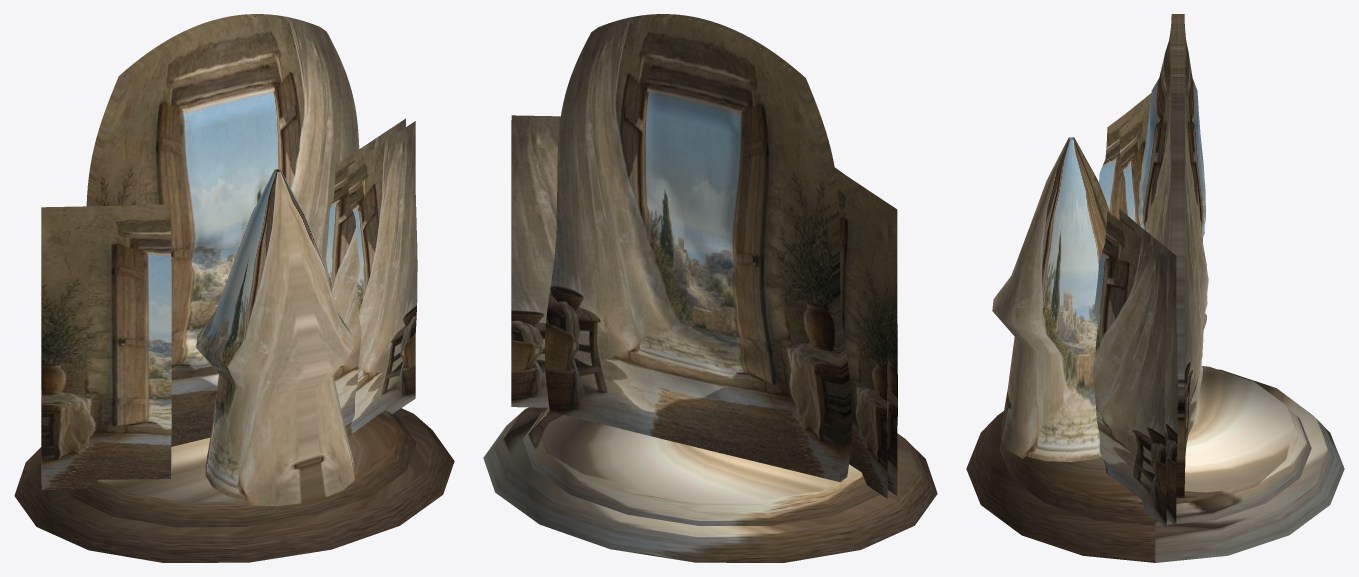
File: little-children-25.glb
3 renders of one model, left to right at view 1: azimuth 30°, elevation 25°; view 2: azimuth 150°, elevation 25°; view 3: azimuth 270°, elevation 25°, orthographic. The views are drawn at different scales.
Visible parts, largest first — view 1: PaintingSculptureMonument; view 2: PaintingSculptureMonument; view 3: PaintingSculptureMonument.
Boxes of the visible parts, x1,y1,x2,y2 form: PaintingSculptureMonument: (14,14,454,562); PaintingSculptureMonument: (483,14,937,562); PaintingSculptureMonument: (966,14,1344,562).
Bounding box in the file's own units: 2.76 × 2.99 × 2.35.
1 material, 1 textured.
